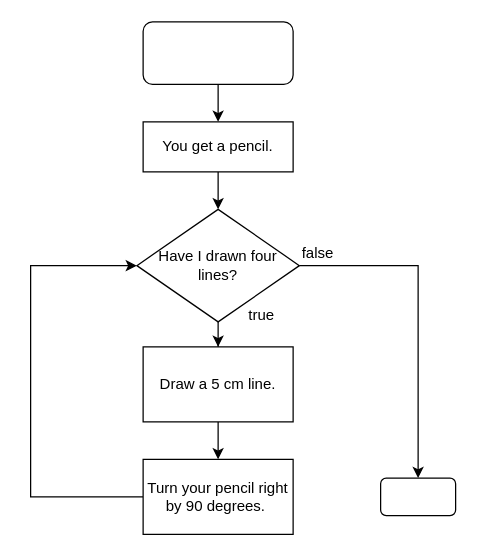
Image size: 478x556. Some labels were removed from this diagram. The shapes that lost their labels are listed below. From the top down, each one's centre as x and y in pixels, then its label:
the point at 217,52: You get a piece of paper.
the point at 417,496: Stop
